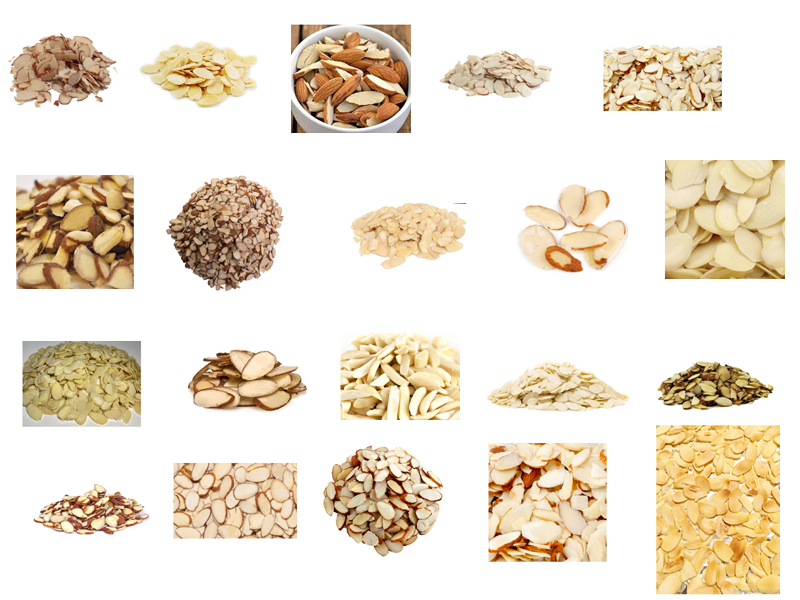almond: (659, 427, 779, 594), (162, 171, 283, 292), (318, 445, 444, 557), (665, 163, 786, 276), (493, 447, 607, 558), (16, 177, 132, 286), (291, 21, 407, 126), (514, 182, 629, 273), (338, 334, 460, 419), (4, 23, 116, 111), (484, 348, 632, 413), (22, 344, 139, 426), (137, 34, 262, 110), (177, 461, 297, 540), (185, 341, 313, 414), (347, 199, 472, 268), (27, 480, 147, 540), (436, 44, 557, 99), (607, 49, 723, 106), (658, 358, 776, 406)
